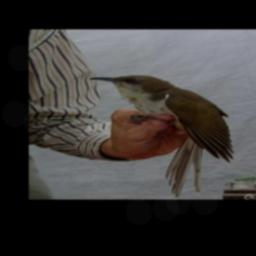Cuckoo: (87, 73, 231, 194)
